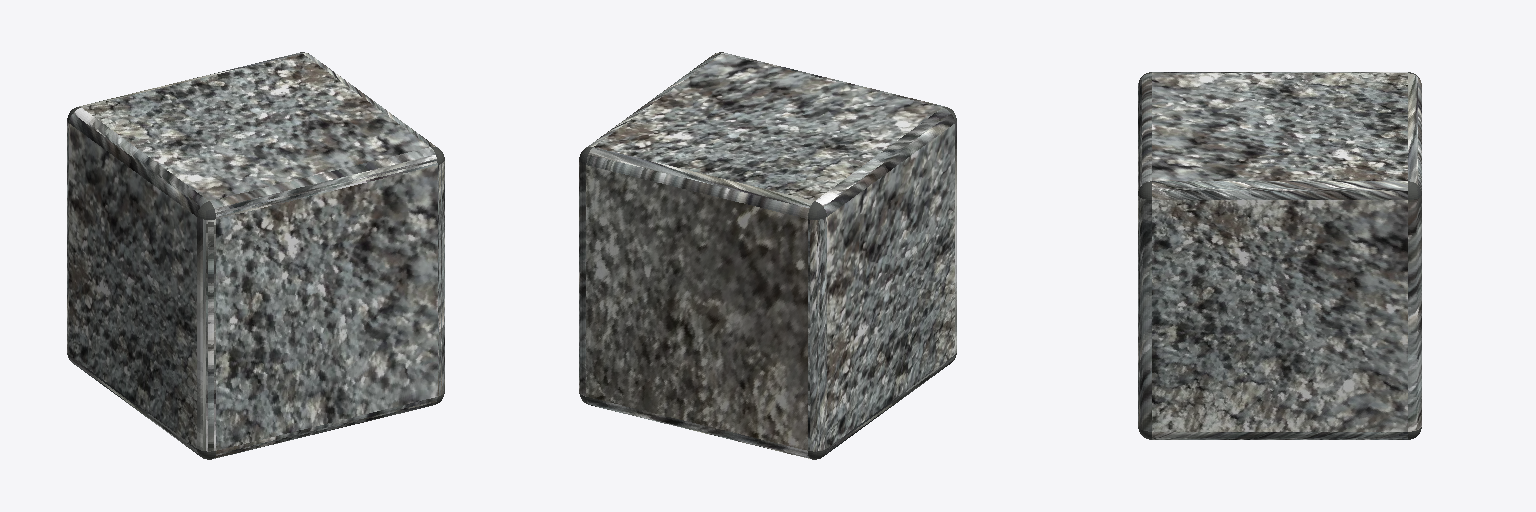
3 views of the same model, side by side, from view 1: azimuth 30°, elevation 25°; view 2: azimuth 150°, elevation 25°; view 3: azimuth 270°, elevation 25° (orthographic).
Visible parts, largest first — view 1: Cube; view 2: Cube; view 3: Cube.
Boxes of the visible parts, x1=… form: Cube: x1=67, y1=52, x2=444, y2=459; Cube: x1=579, y1=52, x2=956, y2=459; Cube: x1=1138, y1=72, x2=1421, y2=439.
Size of the model in its own units: 2 by 2 by 2.
1 materials, 1 textured.